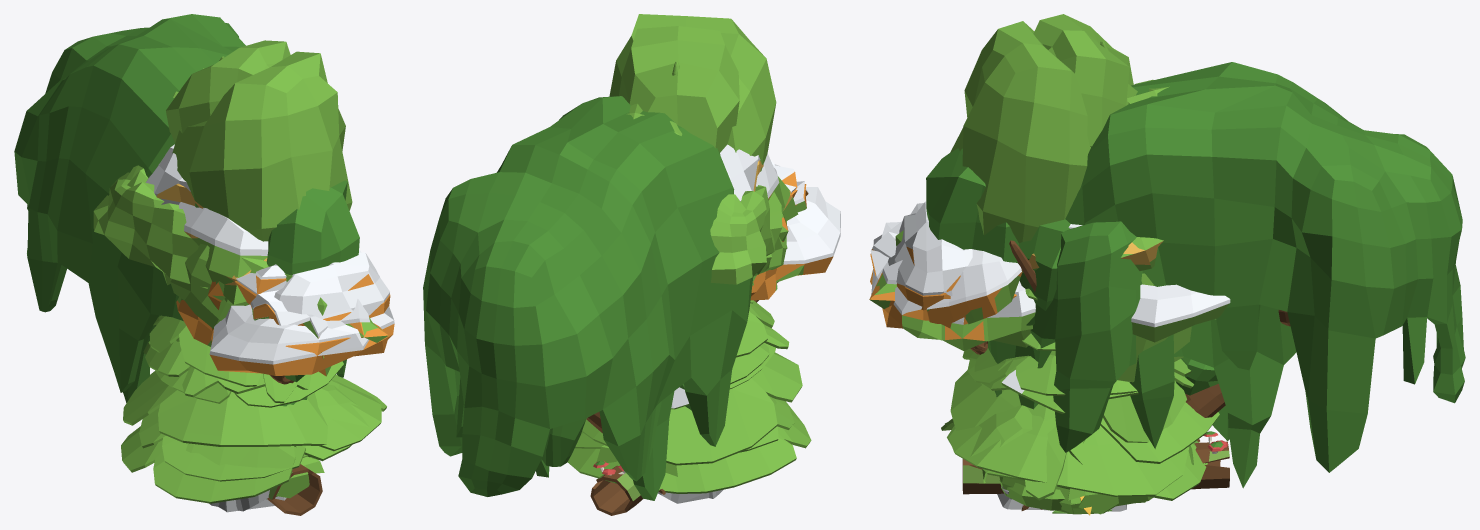
File: q_nature.glb
3 renders of one model, left to right at view 1: azimuth 30°, elevation 25°; view 2: azimuth 150°, elevation 25°; view 3: azimuth 270°, elevation 25°, orthographic. The views are drawn at different scales.
Visible parts, largest first — view 1: willow_2_mesh, birch_2_mesh, pine_2_mesh, snowtree_1_mesh, pine_3_mesh, snowtree_2_mesh, pine_1_mesh, tree_4_mesh, birch_3_mesh, autumn_1_mesh, tree_5_mesh, autumn_2_mesh (+5 smaller); view 2: willow_2_mesh, birch_3_mesh, pine_2_mesh, pine_3_mesh, birch_2_mesh, tree_4_mesh, snowtree_1_mesh, willow_1_mesh, snowtree_2_mesh, pine_1_mesh, log_moss_mesh, tree_5_mesh (+3 smaller); view 3: willow_2_mesh, birch_2_mesh, willow_1_mesh, snowtree_1_mesh, pine_1_mesh, birch_3_mesh, pine_3_mesh, pine_2_mesh, snowtree_2_mesh, autumn_2_mesh, birch_1_mesh, autumn_1_mesh (+4 smaller).
Part boxes in pixels (x1,y1,x2,y2): willow_2_mesh: (14,14,245,392); birch_2_mesh: (172,51,359,382); pine_2_mesh: (123,56,327,446); snowtree_1_mesh: (209,252,394,364); pine_3_mesh: (121,340,386,503); snowtree_2_mesh: (146,144,388,384); pine_1_mesh: (139,337,381,481); tree_4_mesh: (93,165,207,288); birch_3_mesh: (166,40,290,143); autumn_1_mesh: (210,274,394,377); tree_5_mesh: (162,244,327,328); autumn_2_mesh: (156,183,388,384); willow_2_mesh: (423,96,753,496); birch_3_mesh: (619,26,739,152); pine_2_mesh: (582,61,802,465); pine_3_mesh: (567,324,811,493); birch_2_mesh: (609,14,776,171); tree_4_mesh: (710,185,774,284); snowtree_1_mesh: (771,160,840,282); willow_1_mesh: (536,384,691,500); snowtree_2_mesh: (720,144,808,240); pine_1_mesh: (575,300,794,452); log_moss_mesh: (590,461,665,515); tree_5_mesh: (754,192,787,302); willow_2_mesh: (1065,62,1465,472); birch_2_mesh: (926,21,1090,262); willow_1_mesh: (988,221,1296,488); snowtree_1_mesh: (870,201,1230,351); pine_1_mesh: (945,333,1193,496); birch_3_mesh: (1017,14,1137,325); pine_3_mesh: (941,360,1207,500); pine_2_mesh: (950,41,1219,480); snowtree_2_mesh: (869,203,1163,354); autumn_2_mesh: (869,240,1163,354); birch_1_mesh: (1117,79,1218,395); autumn_1_mesh: (870,246,1016,349).
Bounding box in the file's own units: 2.38 × 4.09 × 4.77.
